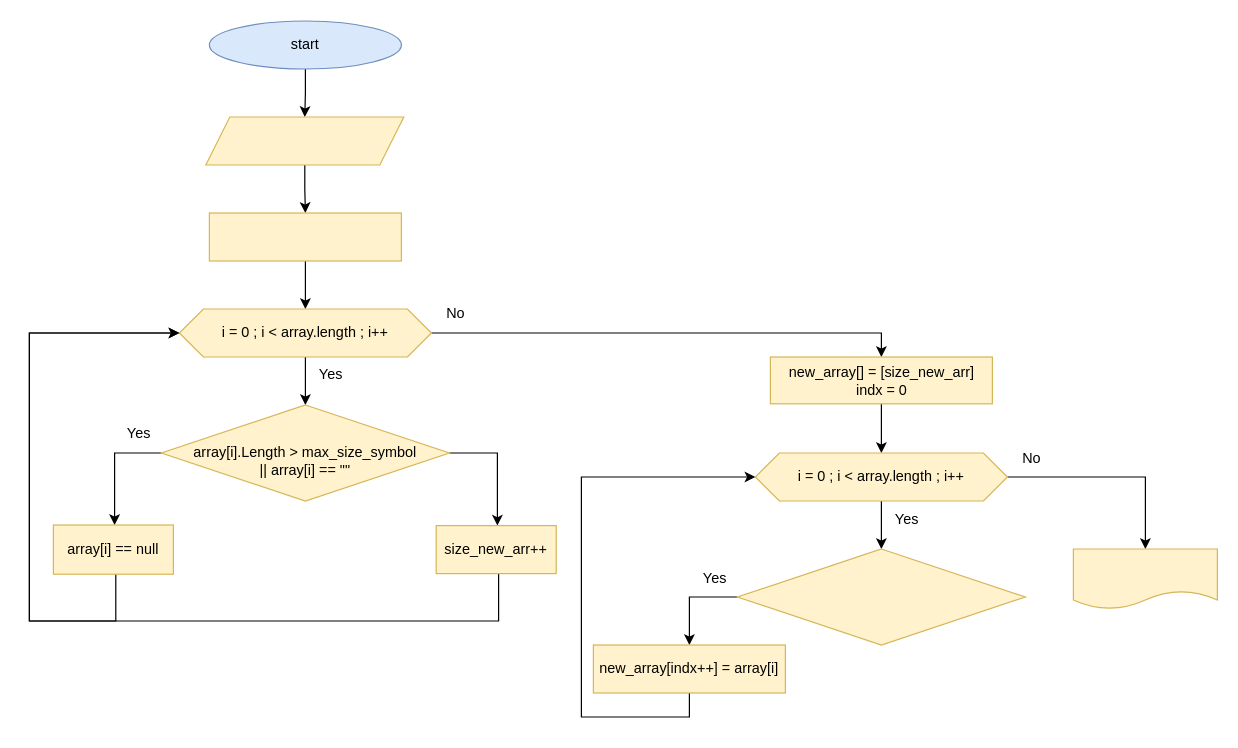
The diagram is 1238 pixels wide and 748 high, and some of its shapes have lost their labels. The shapes that lost their labels are listed below. From the top down, each one's centre as x and y in pixels, then its label:
point (304, 140): input array[] = [“Hello”,“2”,“world”,“:-)”]
point (304, 236): size_new_arr = 0 max_size_symbol = 3
point (880, 596): array[i] != null
point (1144, 578): print(new_array)
